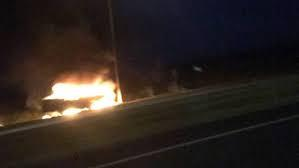fire: (41, 77, 120, 120)
